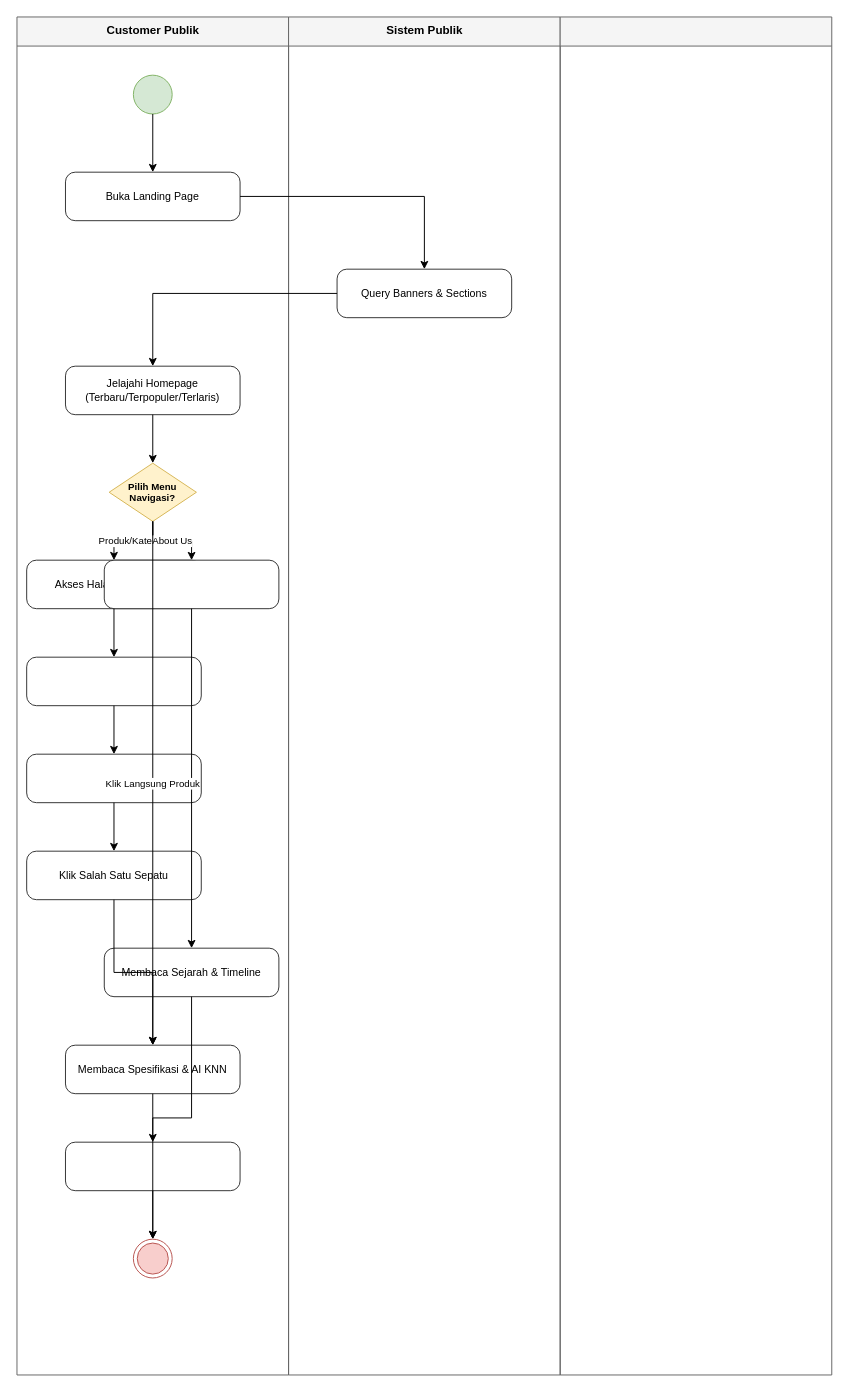
The diagram is 849 pixels wide and 1392 high, and some of its shapes have lost their labels. Here are the shapes that lost their labels. From the top down, the box of each, then its label:
(103, 559, 279, 609): Buka Halaman About Us
(26, 656, 201, 706): Pilih Kategori: Formal/Casual
(559, 16, 832, 1375): Database & S3
(26, 753, 201, 803): Lihat Grid Terfilter
(65, 1141, 240, 1191): Membaca Testimoni (Read-Only)
